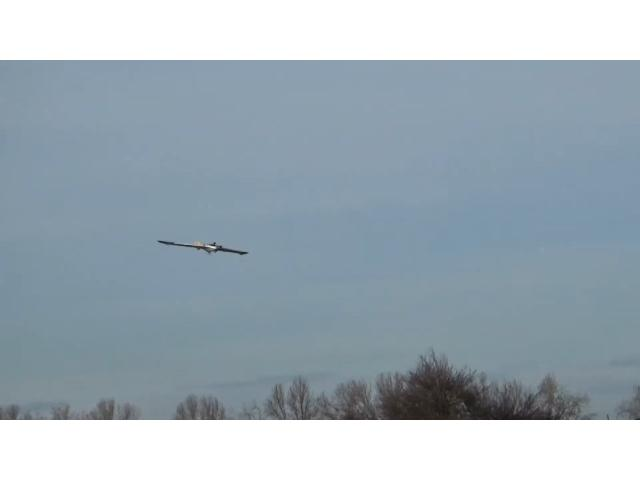Anti-Drone: (158, 239, 248, 256)
